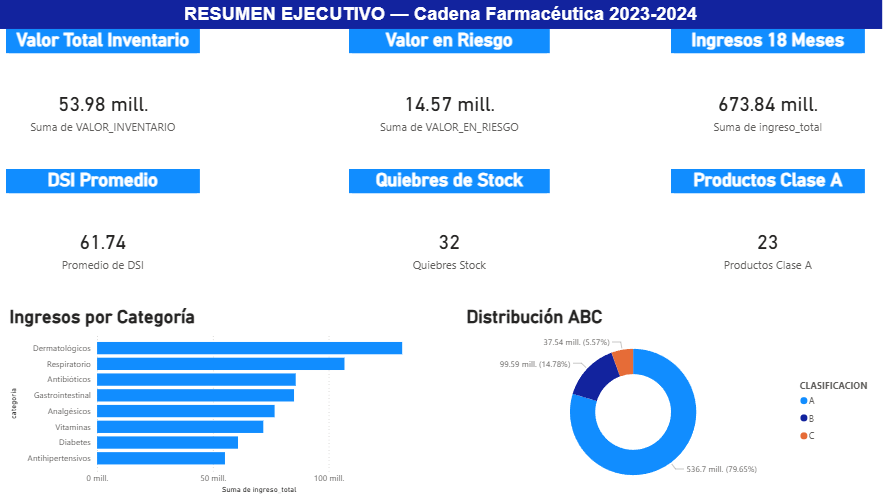

Layout of this report page (visuals, bound fields, positions):
{"tool":"powerbi","page":{"name":"Executive Summary","canvas":[1280,720],"ordinal":0},"visuals":[{"type":"card","title":"Valor Total Inventario","fields":{"Values":["Sum(KPI_maestro.VALOR_INVENTARIO)"]},"box":[10.1,42,280.5,203.3],"z":0},{"type":"card","title":"Valor en Riesgo","fields":{"Values":["Sum(Vencimientos1.VALOR_EN_RIESGO)"]},"box":[507.3,42,290.6,203.3],"z":1000},{"type":"card","title":"Ingresos 18 Meses","fields":{"Values":["Sum(ventas.ingreso_total)"]},"box":[974.3,42,280.5,203.3],"z":2000},{"type":"card","title":"DSI Promedio","fields":{"Values":["Avg(KPI_maestro.DSI)"]},"box":[10.1,245.2,280.5,198.2],"z":3000},{"type":"card","title":"Quiebres de Stock","fields":{"Values":["KPI_maestro.Quiebres Stock"]},"box":[507.3,245.2,290.6,198.2],"z":4000},{"type":"card","title":"Productos Clase A","fields":{"Values":["KPI_maestro.Productos Clase A"]},"box":[974.3,245.2,280.5,198.2],"z":5000},{"type":"donutChart","title":"Distribución ABC","fields":{"Category":["analisis_ABC.CLASIFICACION"],"Y":["Sum(analisis_ABC.INGRESOS_TOTAL)"]},"box":[671.9,443.5,608.1,277.2],"z":6000},{"type":"barChart","title":"Ingresos por Categoría","fields":{"Category":["productos.categoria"],"Y":["Sum(ventas.ingreso_total)"]},"box":[10.1,443.5,629.9,277.2],"z":7000},{"type":"textbox","box":[0,0,1280,42],"z":7001}]}

Visuals, with their boxes in screenshot pixels (x1, y1, x2, y2), scaled from the page's 1280x720 canvas onto the 883x496 screenshot:
"Valor Total Inventario" card: {"x1": 7, "y1": 29, "x2": 200, "y2": 169}
"Valor en Riesgo" card: {"x1": 350, "y1": 29, "x2": 550, "y2": 169}
"Ingresos 18 Meses" card: {"x1": 672, "y1": 29, "x2": 866, "y2": 169}
"DSI Promedio" card: {"x1": 7, "y1": 169, "x2": 200, "y2": 305}
"Quiebres de Stock" card: {"x1": 350, "y1": 169, "x2": 550, "y2": 305}
"Productos Clase A" card: {"x1": 672, "y1": 169, "x2": 866, "y2": 305}
"Distribución ABC" donutChart: {"x1": 464, "y1": 306, "x2": 882, "y2": 495}
"Ingresos por Categoría" barChart: {"x1": 7, "y1": 306, "x2": 442, "y2": 495}
textbox: {"x1": 0, "y1": 0, "x2": 882, "y2": 29}
